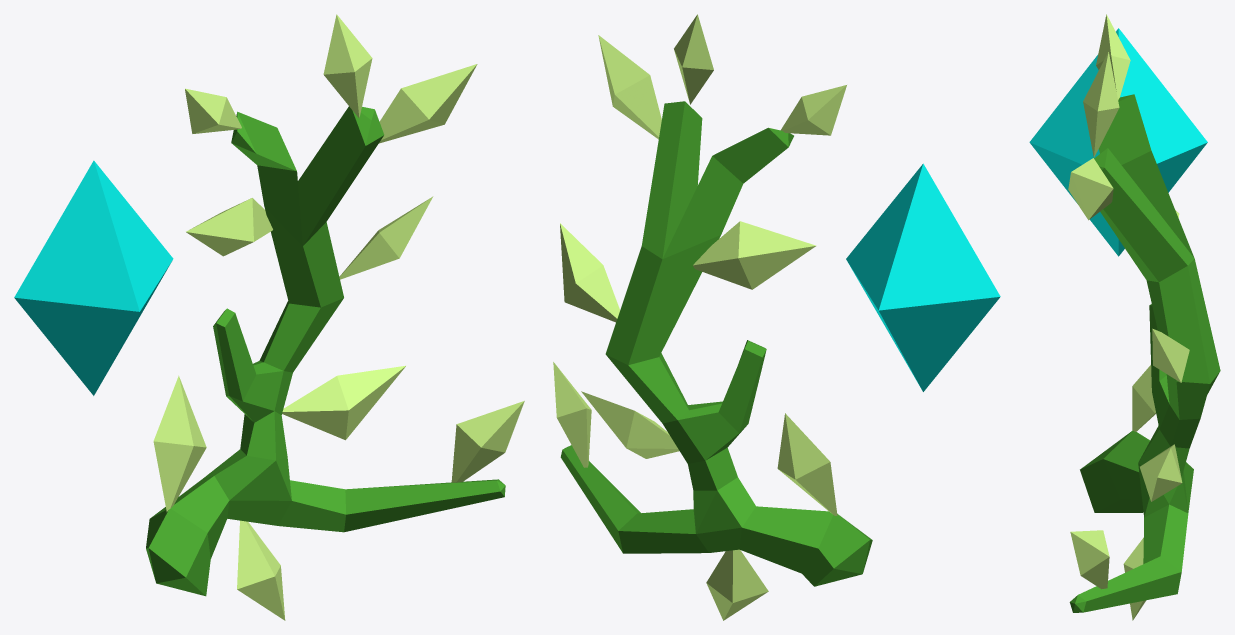
The model's file is SuperEarthCrown.fbx.
3 views of the same model, side by side, from view 1: azimuth 30°, elevation 25°; view 2: azimuth 150°, elevation 25°; view 3: azimuth 270°, elevation 25° (orthographic). The views are drawn at different scales.
Parts seen in each view (by area): view 1: SuperEarthAntler, SuperEliteCrystal; view 2: SuperEarthAntler, SuperEliteCrystal; view 3: SuperEarthAntler, SuperEliteCrystal.
Part boxes in pixels (x1=…): SuperEarthAntler: x1=146, y1=14, x2=524, y2=620; SuperEliteCrystal: x1=14, y1=160, x2=173, y2=395; SuperEarthAntler: x1=553, y1=14, x2=872, y2=620; SuperEliteCrystal: x1=846, y1=163, x2=1000, y2=391; SuperEarthAntler: x1=1068, y1=14, x2=1220, y2=620; SuperEliteCrystal: x1=1029, y1=28, x2=1207, y2=256.
Bounding box in the file's own units: 2.13 × 2.54 × 0.7482.
